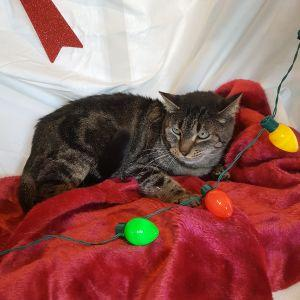bengal: (157, 81, 241, 172)
